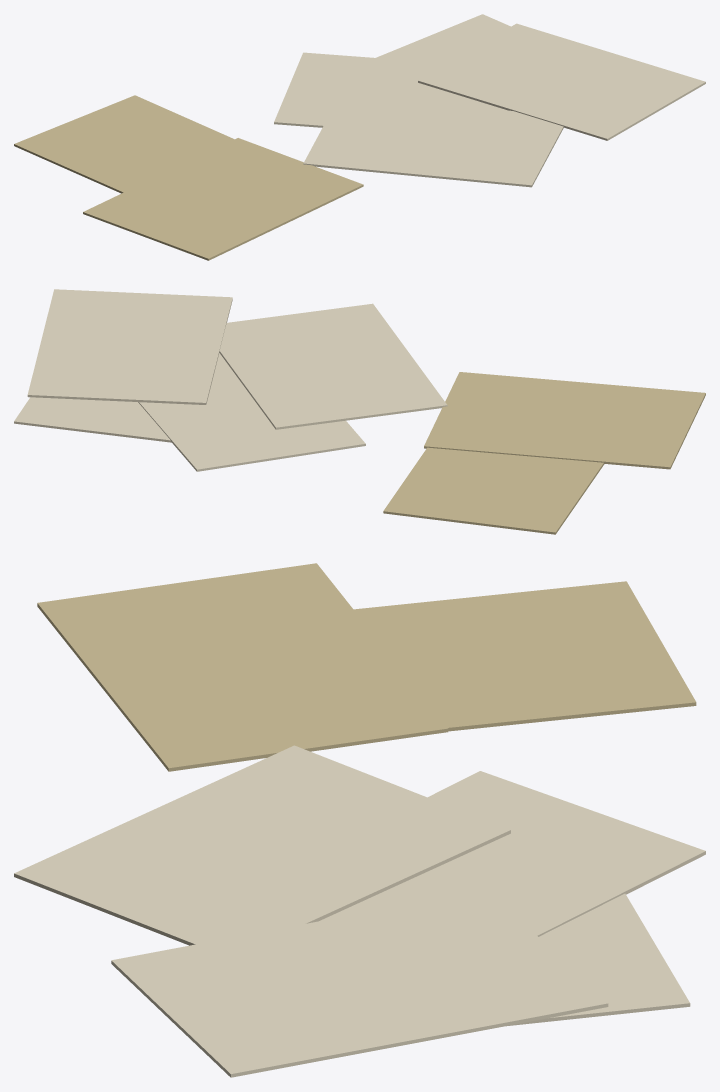
The model's file is SM_Prop_Papers_01.glb.
The picture shows the model from 3 angles, top to bottom: view 1: azimuth 30°, elevation 25°; view 2: azimuth 150°, elevation 25°; view 3: azimuth 270°, elevation 25°; orthographic projection. The views are drawn at different scales.
Parts seen in each view (by area): view 1: SM_Prop_Papers_01; view 2: SM_Prop_Papers_01; view 3: SM_Prop_Papers_01.
Boxes of the visible parts, x1,y1,x2,y2 form: SM_Prop_Papers_01: (14, 14, 705, 260); SM_Prop_Papers_01: (14, 289, 705, 534); SM_Prop_Papers_01: (14, 563, 705, 1077).
Bounding box in the file's own units: 1.24 × 0.014 × 0.704.
Materials: 1 (1 with a texture image).
